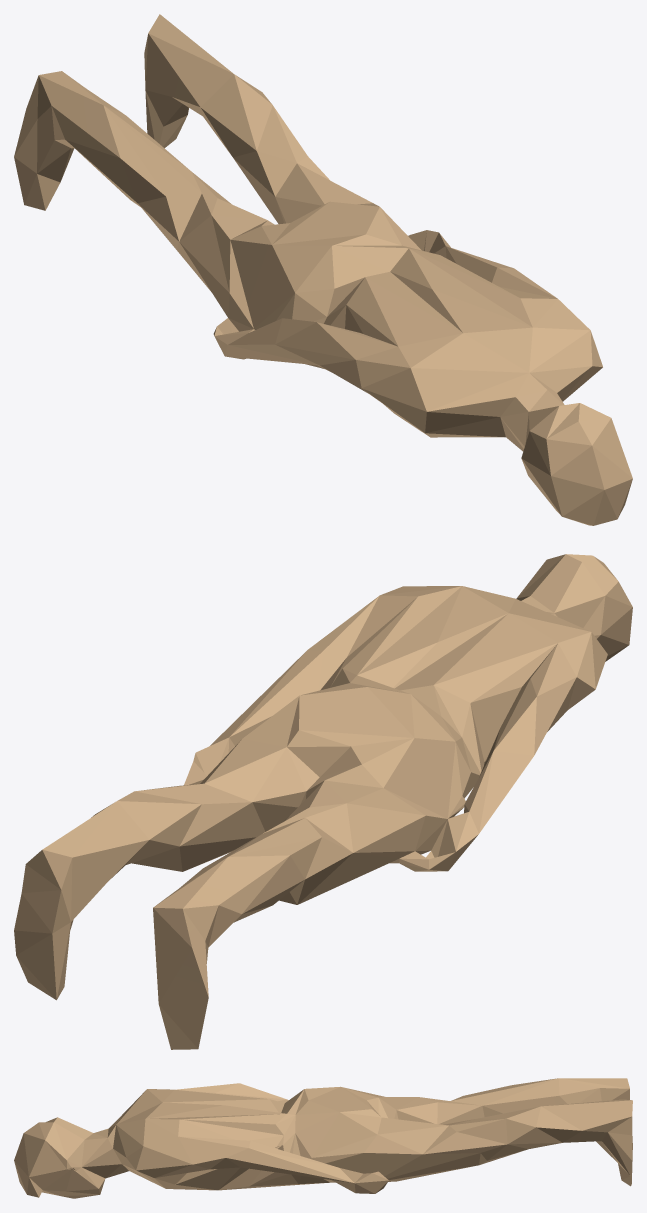
Rendered from person@19.glb.
3 views of the same model, one above another, from view 1: azimuth 30°, elevation 25°; view 2: azimuth 150°, elevation 25°; view 3: azimuth 270°, elevation 25° (orthographic). The views are drawn at different scales.
Parts seen in each view (by area): view 1: lower_grp low_poly_people_0296; view 2: lower_grp low_poly_people_0296; view 3: lower_grp low_poly_people_0296.
Boxes of the visible parts, x1,y1,x2,y2 form: lower_grp low_poly_people_0296: [14, 14, 632, 525]; lower_grp low_poly_people_0296: [14, 554, 632, 1049]; lower_grp low_poly_people_0296: [14, 1078, 632, 1198].
Size of the model in its own units: 0.0206 by 0.0134 by 0.0707.
